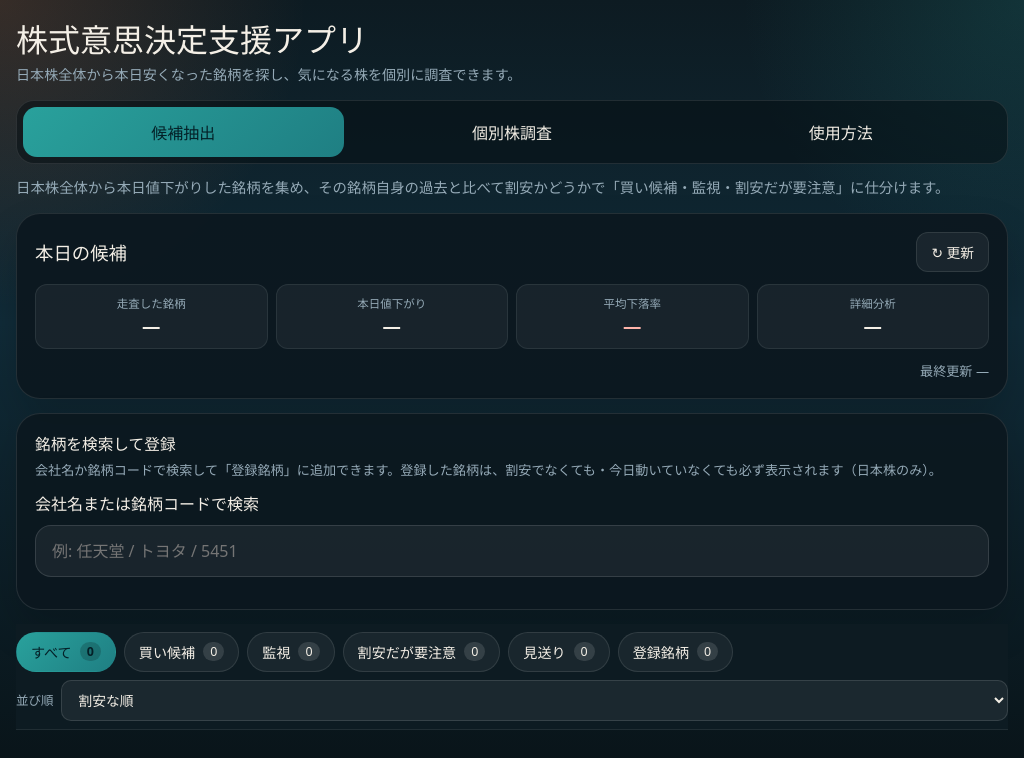
App › 分析開始レスポンスに analysisId が無い場合はポーリングせずエラーにする
The image size is (1024, 758).
Click the tab "個別株調査" at (512, 132), box [352,107,672,157]
(page scrolled)
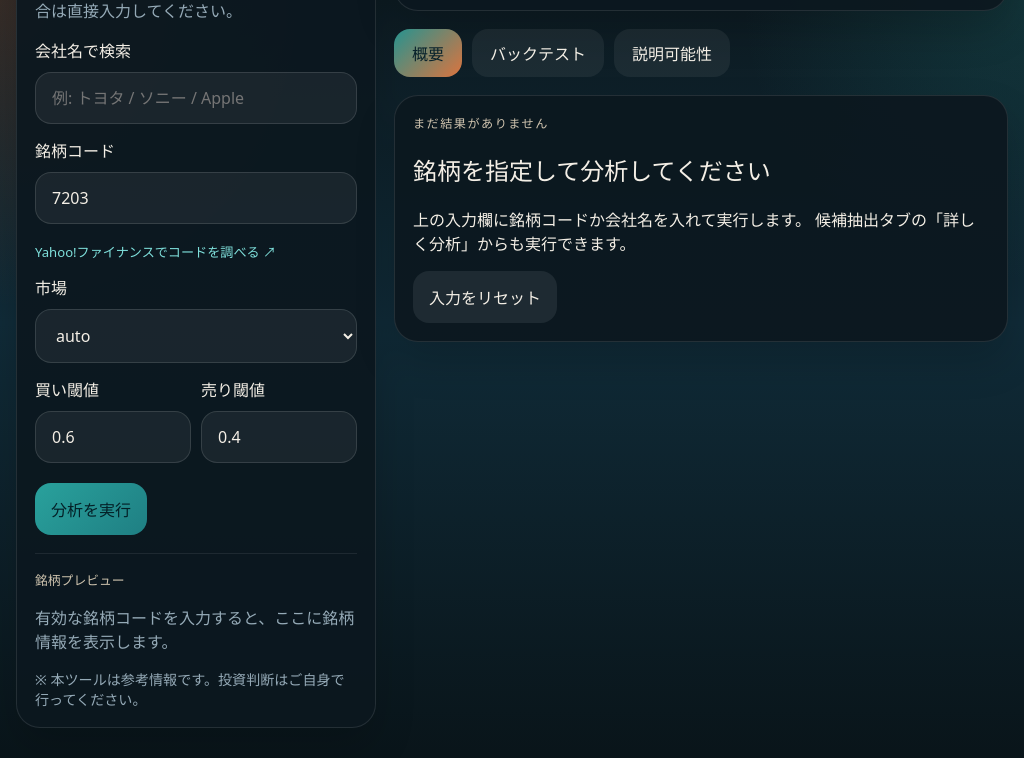
Click the button "分析を実行" at (91, 509), box [35,483,147,535]
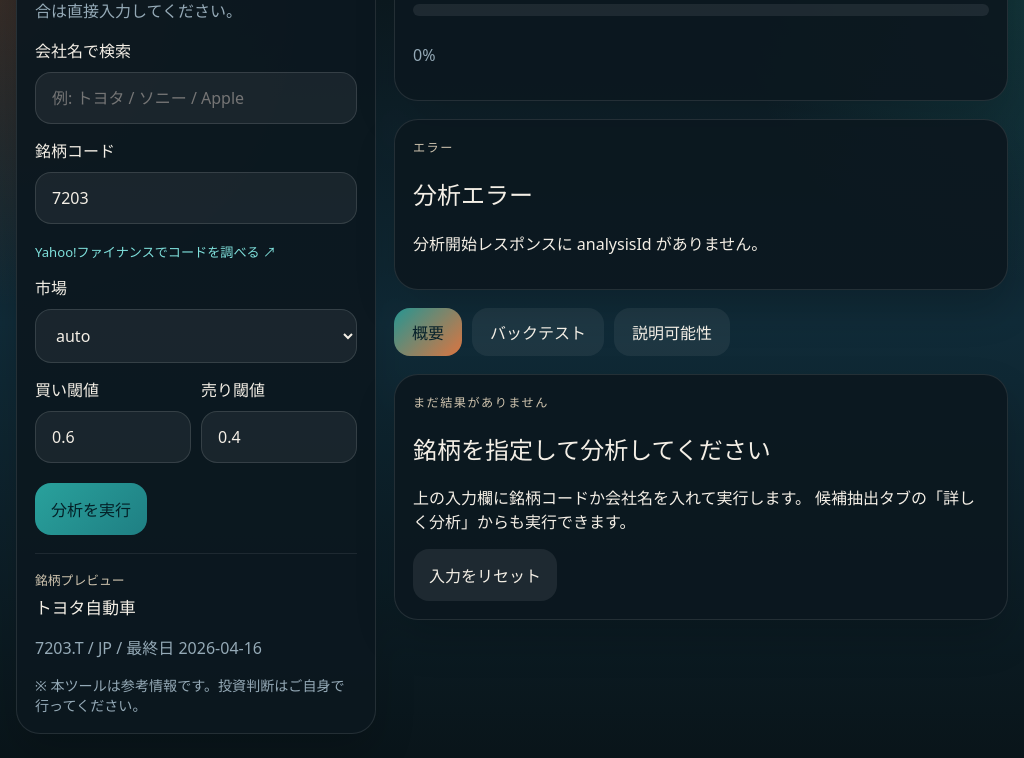
Now the text "分析開始レスポンスに analysisId がありません。" is shown, box [413,233,767,255]
